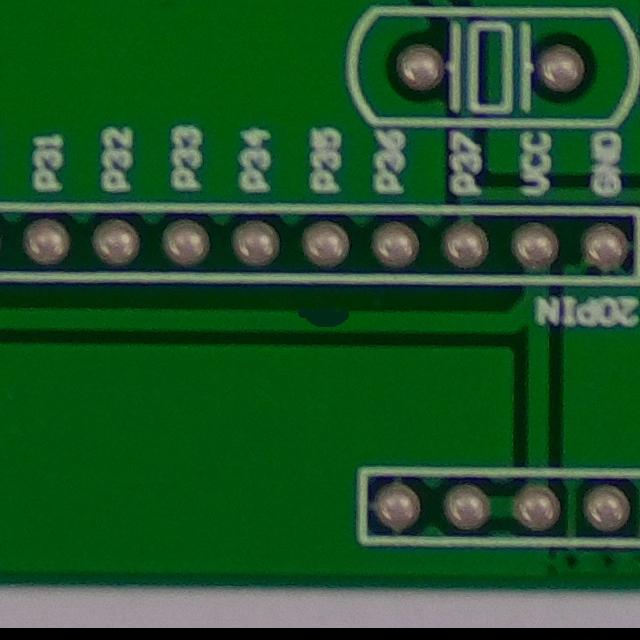mouse_bite: (279, 292, 361, 348)
